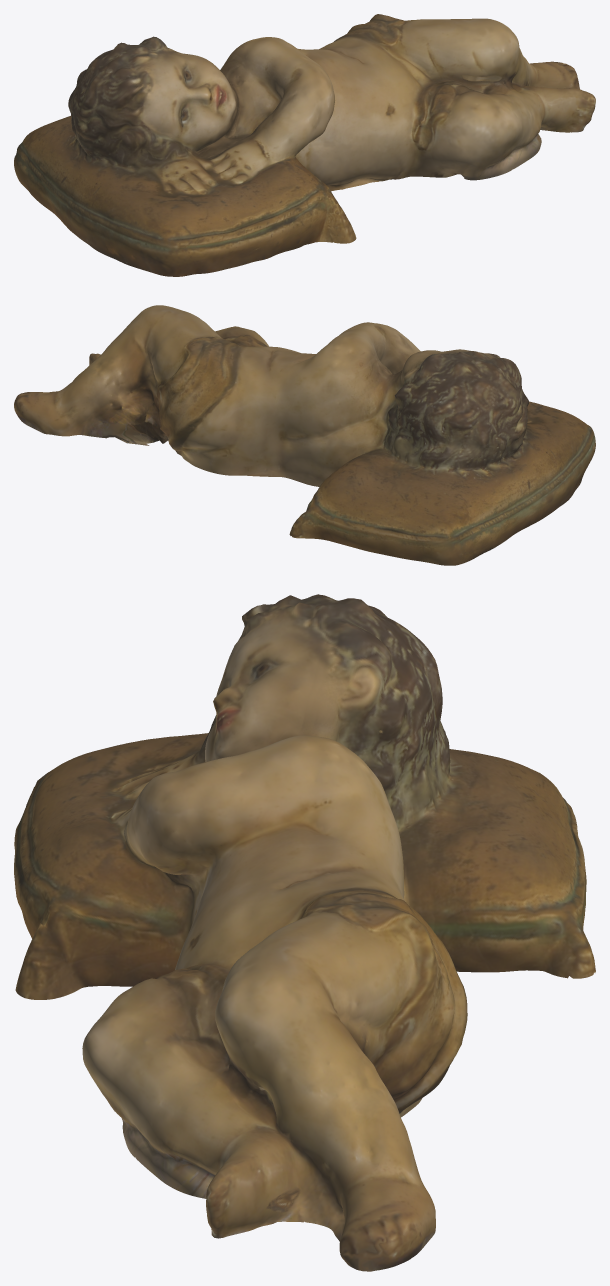
File: Ninio.glb
3 views of the same model, one above another, from view 1: azimuth 30°, elevation 25°; view 2: azimuth 150°, elevation 25°; view 3: azimuth 270°, elevation 25° (orthographic). The views are drawn at different scales.
Parts seen in each view (by area): view 1: Ninio_; view 2: Ninio_; view 3: Ninio_.
Boxes of the visible parts, x1,y1,x2,y2 form: Ninio_: (14, 14, 595, 276); Ninio_: (14, 305, 595, 565); Ninio_: (14, 594, 595, 1271).
Bounding box in the file's own units: 0.557 × 0.1602 × 0.3007.
1 material, 1 textured.
